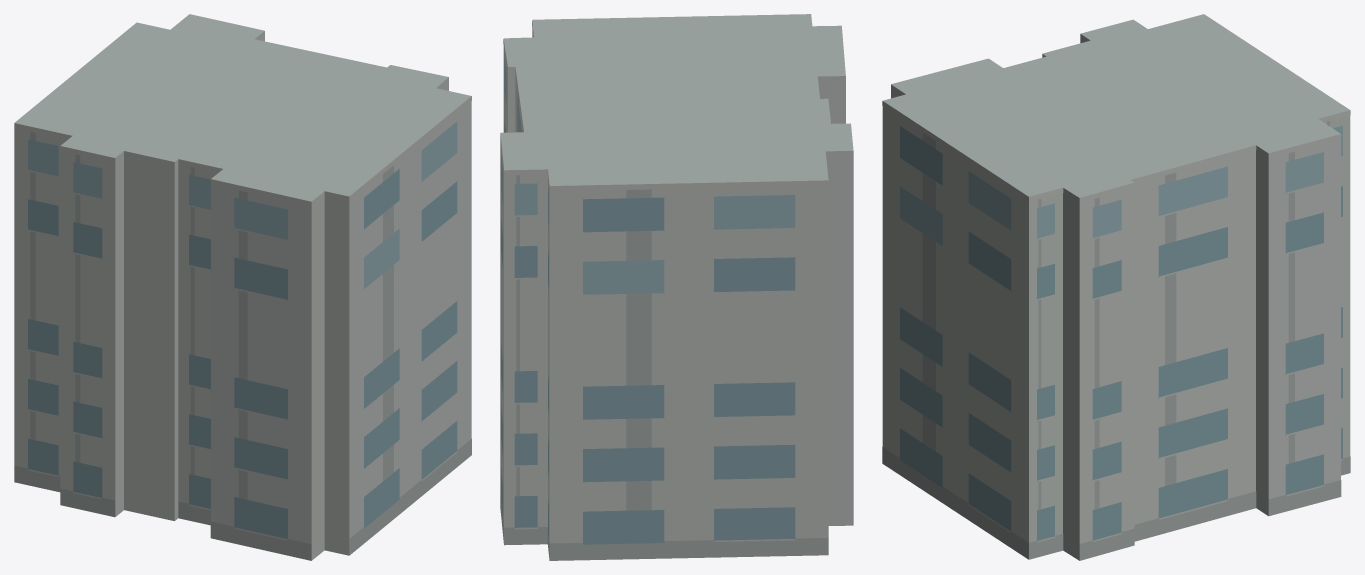
The model's file is survey-upis-32863477.glb.
3 views of the same model, side by side, from view 1: azimuth 30°, elevation 25°; view 2: azimuth 150°, elevation 25°; view 3: azimuth 270°, elevation 25° (orthographic). The views are drawn at different scales.
Parts seen in each view (by area): view 1: survey-upis-32863477.tmp; view 2: survey-upis-32863477.tmp; view 3: survey-upis-32863477.tmp.
Boxes of the visible parts, bbox=[...] form: survey-upis-32863477.tmp: bbox=[14, 14, 471, 560]; survey-upis-32863477.tmp: bbox=[500, 14, 853, 560]; survey-upis-32863477.tmp: bbox=[882, 14, 1350, 560].
Size of the model in its own units: 18.44 by 16.95 by 19.82.
